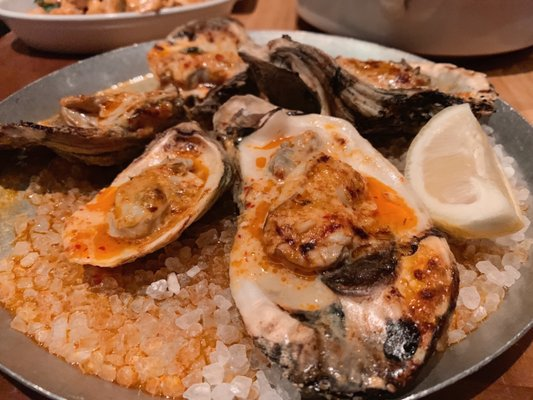sushi: (295, 0, 533, 60), (0, 0, 242, 56)
taco: (403, 103, 527, 243)
